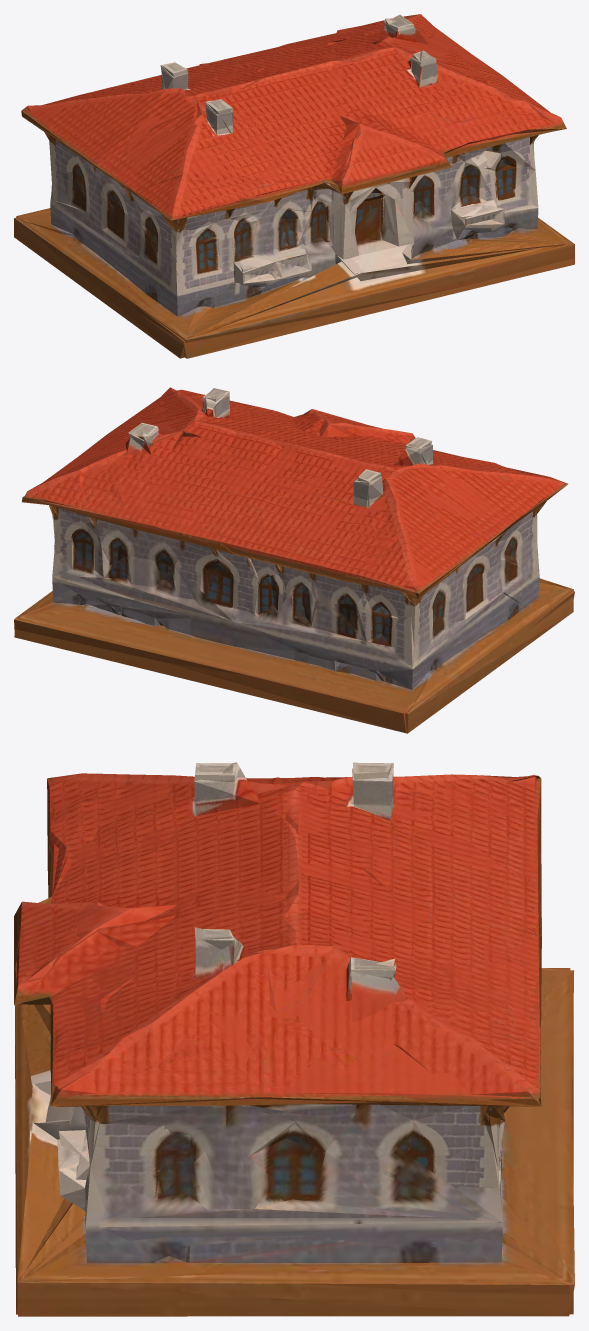
File: meclis.glb
3 renders of one model, top to bottom at view 1: azimuth 30°, elevation 25°; view 2: azimuth 150°, elevation 25°; view 3: azimuth 270°, elevation 25°, orthographic. The views are drawn at different scales.
Parts seen in each view (by area): view 1: output_unwrapped; view 2: output_unwrapped; view 3: output_unwrapped.
Boxes of the visible parts, left/top/right/bottom form: output_unwrapped: left=14, top=14, right=574, bottom=358; output_unwrapped: left=14, top=387, right=574, bottom=733; output_unwrapped: left=14, top=762, right=574, bottom=1316.
Bounding box in the file's own units: 1.9 × 0.8698 × 1.41.
1 material, 1 textured.
